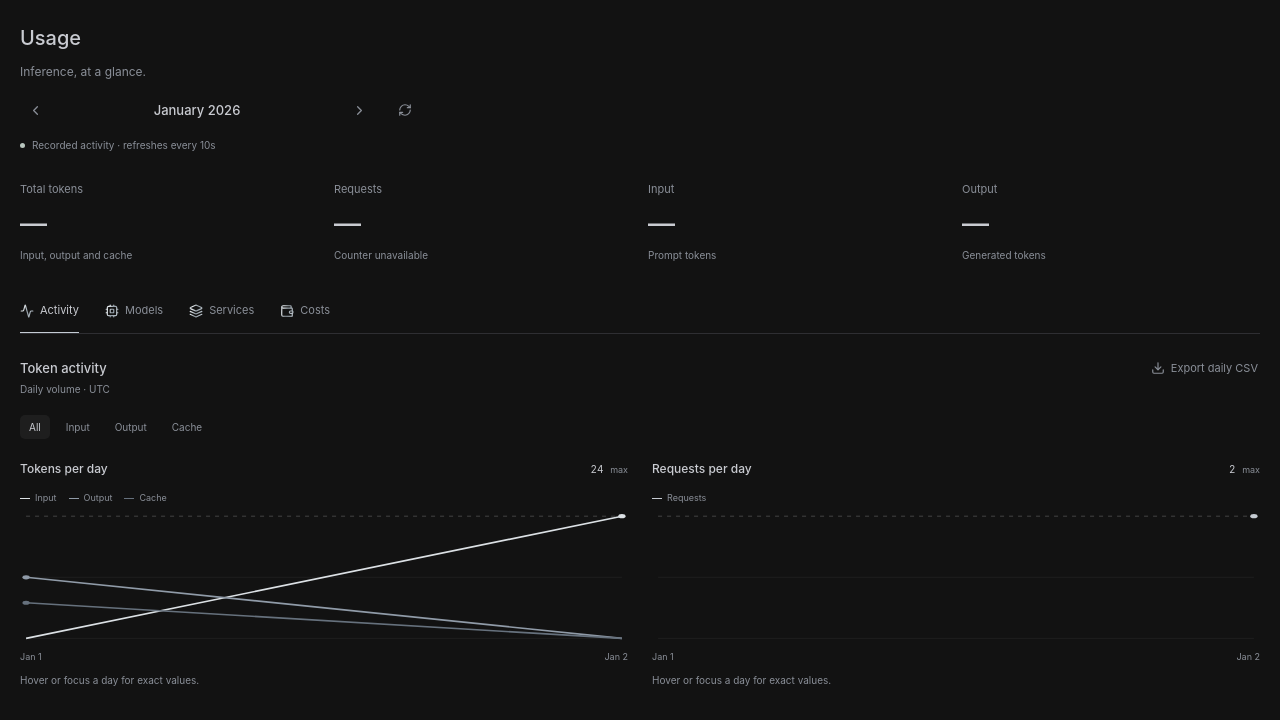
Test case: daily usage download at the activity view boundary › reports a failed browser download, cleans up, and permits an explicit retry
Click the button "Export daily CSV" at [1204, 368], box [1149,358,1260,379]
Wait 1000 ms
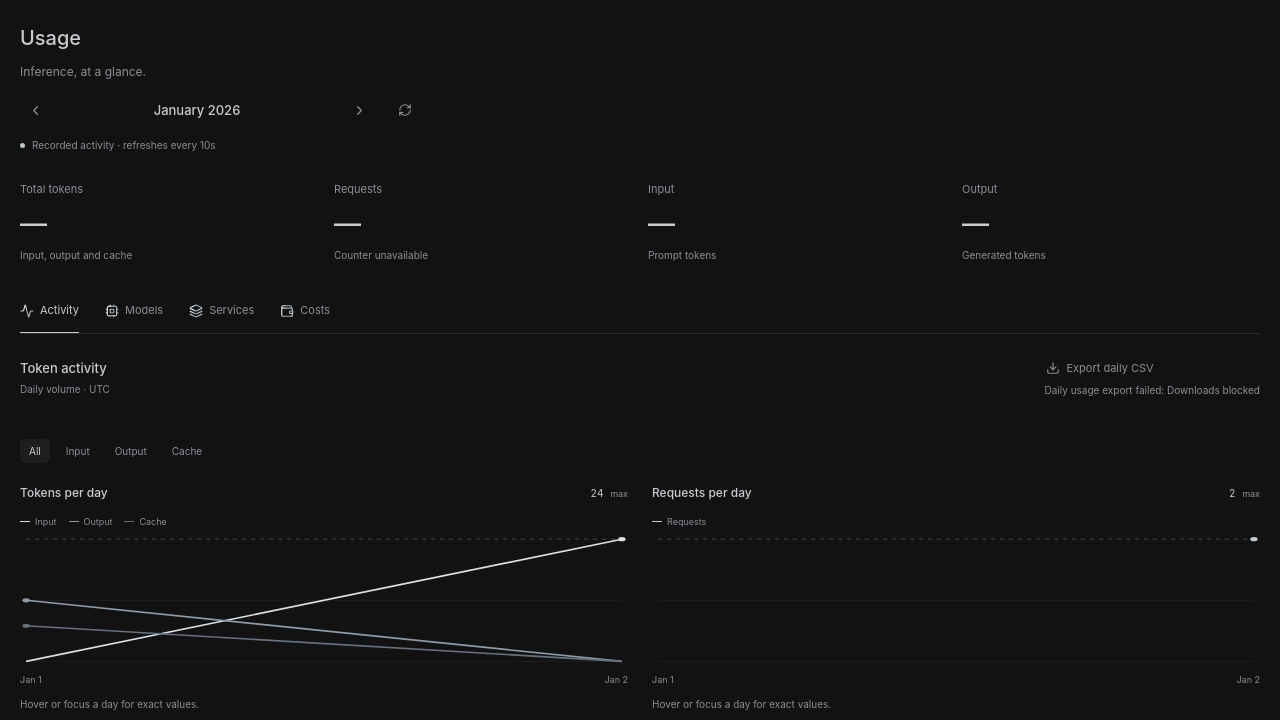
Expected: the message shows "Downloads blocked", [1044,384,1260,396]
Click the button "Export daily CSV" at [1100, 368], box [1044,358,1156,379]
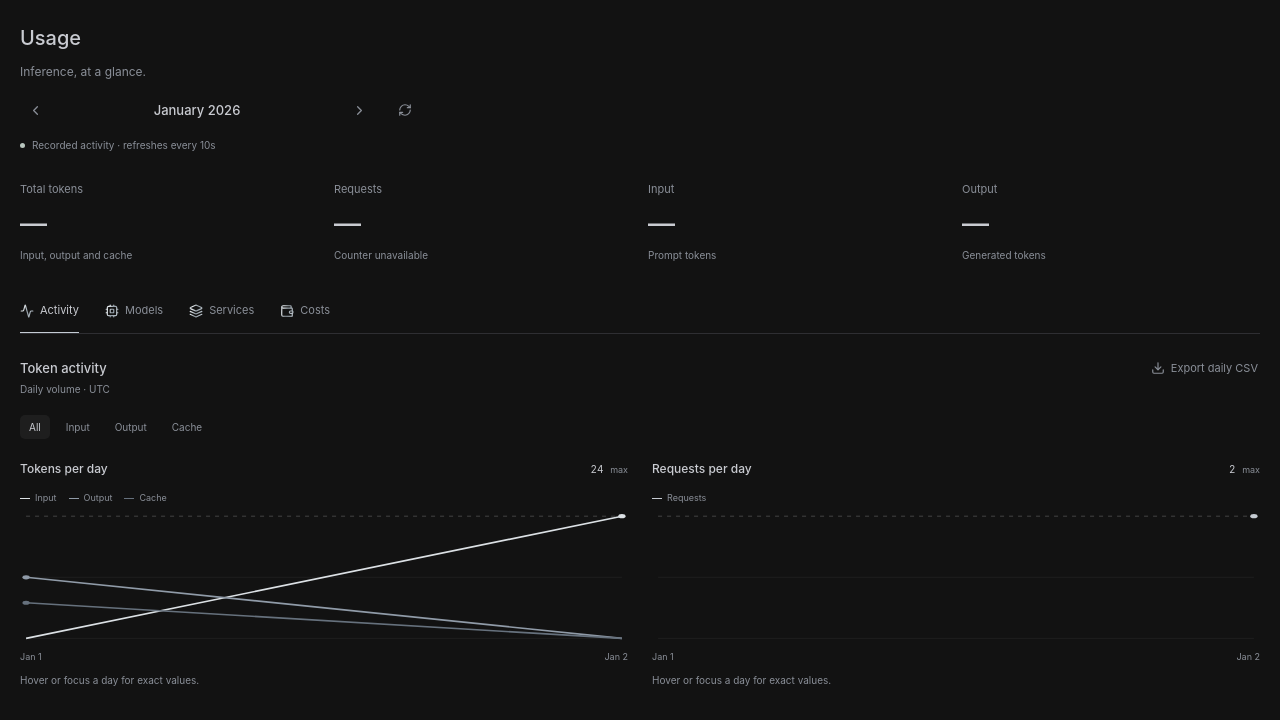
Expected: the message "Daily usage export failed: Downloads blocked" is gone
